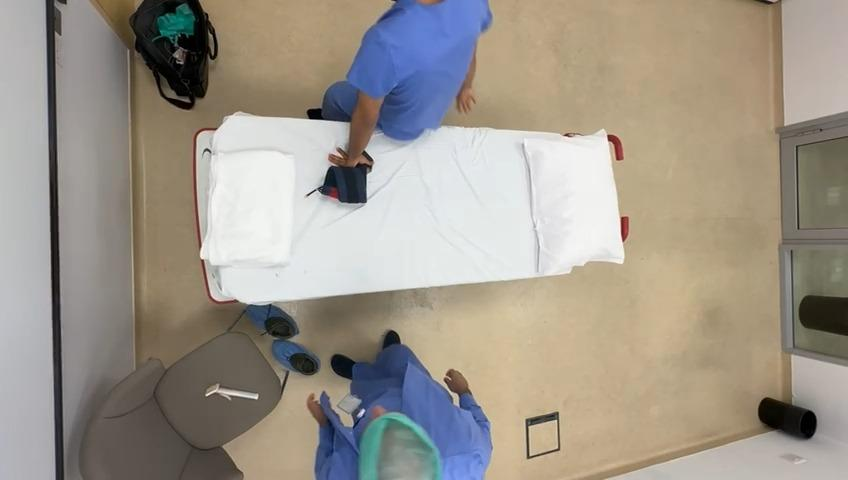bed: (192, 116, 626, 302)
prepstick: (204, 383, 258, 401)
tourniquet: (316, 164, 368, 203)
